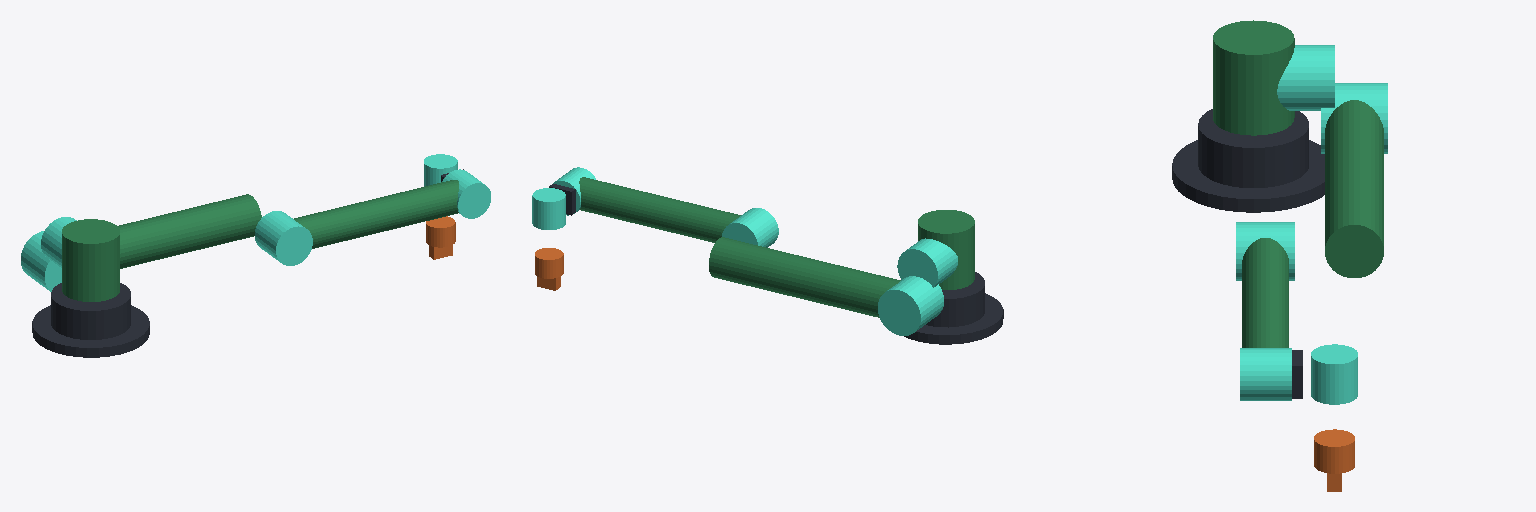
The robot description file, URDF, robot "ep_arm_6":
<?xml version="1.0"?>
<!-- EP-Arm-6: MIT teaching arm. DH lengths match src/lib/robot-arm-ik.ts (UR5-class). -->
<robot name="ep_arm_6">

  <material name="cast_iron">
    <color rgba="0.22 0.24 0.28 1"/>
  </material>
  <material name="accent">
    <color rgba="0.24 0.54 0.36 1"/>
  </material>
  <material name="joint_teal">
    <color rgba="0.37 0.92 0.83 1"/>
  </material>
  <material name="tool">
    <color rgba="0.85 0.47 0.23 1"/>
  </material>

  <link name="base_link">
    <visual>
      <origin xyz="0 0 0.04" rpy="0 0 0"/>
      <geometry><cylinder radius="0.075" length="0.08"/></geometry>
      <material name="cast_iron"/>
    </visual>
    <visual>
      <origin xyz="0 0 0.01" rpy="0 0 0"/>
      <geometry><cylinder radius="0.11" length="0.02"/></geometry>
      <material name="cast_iron"/>
    </visual>
  </link>

  <link name="shoulder_link">
    <visual>
      <origin xyz="0 0 0.06" rpy="0 0 0"/>
      <geometry><cylinder radius="0.055" length="0.12"/></geometry>
      <material name="accent"/>
    </visual>
    <visual>
      <origin xyz="0 0.07 0.06" rpy="1.5708 0 0"/>
      <geometry><cylinder radius="0.045" length="0.08"/></geometry>
      <material name="joint_teal"/>
    </visual>
  </link>

  <link name="upper_arm_link">
    <visual>
      <origin xyz="0 0 0.2125" rpy="0 0 0"/>
      <geometry><cylinder radius="0.04" length="0.425"/></geometry>
      <material name="accent"/>
    </visual>
    <visual>
      <origin xyz="0 0 0.0" rpy="1.5708 0 0"/>
      <geometry><cylinder radius="0.048" length="0.09"/></geometry>
      <material name="joint_teal"/>
    </visual>
  </link>

  <link name="forearm_link">
    <visual>
      <origin xyz="0 0 0.196125" rpy="0 0 0"/>
      <geometry><cylinder radius="0.032" length="0.39225"/></geometry>
      <material name="accent"/>
    </visual>
    <visual>
      <origin xyz="0 0 0.0" rpy="1.5708 0 0"/>
      <geometry><cylinder radius="0.04" length="0.08"/></geometry>
      <material name="joint_teal"/>
    </visual>
  </link>

  <link name="wrist_1_link">
    <visual>
      <origin xyz="0 0 0.0" rpy="1.5708 0 0"/>
      <geometry><cylinder radius="0.036" length="0.07"/></geometry>
      <material name="joint_teal"/>
    </visual>
    <visual>
      <origin xyz="0 0.02 0" rpy="0 0 0"/>
      <geometry><box size="0.05 0.06 0.05"/></geometry>
      <material name="cast_iron"/>
    </visual>
  </link>

  <link name="wrist_2_link">
    <visual>
      <origin xyz="0 0 0.0" rpy="0 0 0"/>
      <geometry><cylinder radius="0.032" length="0.06"/></geometry>
      <material name="joint_teal"/>
    </visual>
  </link>

  <link name="wrist_3_link">
    <visual>
      <origin xyz="0 0 0.02" rpy="0 0 0"/>
      <geometry><cylinder radius="0.028" length="0.04"/></geometry>
      <material name="tool"/>
    </visual>
    <visual>
      <origin xyz="0 0 0.055" rpy="0 0 0"/>
      <geometry><box size="0.04 0.02 0.03"/></geometry>
      <material name="tool"/>
    </visual>
  </link>

  <link name="tool0"/>

  <!-- Joints: origins match ARM_DH in robot-arm-ik.ts -->
  <joint name="shoulder_pan_joint" type="revolute">
    <parent link="base_link"/>
    <child link="shoulder_link"/>
    <origin xyz="0 0 0.089159" rpy="0 0 0"/>
    <axis xyz="0 0 1"/>
    <limit lower="-6.2832" upper="6.2832" effort="150" velocity="3.15"/>
  </joint>

  <joint name="shoulder_lift_joint" type="revolute">
    <parent link="shoulder_link"/>
    <child link="upper_arm_link"/>
    <origin xyz="0 0.13585 0" rpy="0 1.57079632679 0"/>
    <axis xyz="0 1 0"/>
    <limit lower="-6.2832" upper="6.2832" effort="150" velocity="3.15"/>
  </joint>

  <joint name="elbow_joint" type="revolute">
    <parent link="upper_arm_link"/>
    <child link="forearm_link"/>
    <origin xyz="0 -0.1197 0.425" rpy="0 0 0"/>
    <axis xyz="0 1 0"/>
    <limit lower="-3.1416" upper="3.1416" effort="150" velocity="3.15"/>
  </joint>

  <joint name="wrist_1_joint" type="revolute">
    <parent link="forearm_link"/>
    <child link="wrist_1_link"/>
    <origin xyz="0 0 0.39225" rpy="0 1.57079632679 0"/>
    <axis xyz="0 1 0"/>
    <limit lower="-6.2832" upper="6.2832" effort="28" velocity="3.2"/>
  </joint>

  <joint name="wrist_2_joint" type="revolute">
    <parent link="wrist_1_link"/>
    <child link="wrist_2_link"/>
    <origin xyz="0 0.093 0" rpy="0 0 0"/>
    <axis xyz="0 0 1"/>
    <limit lower="-6.2832" upper="6.2832" effort="28" velocity="3.2"/>
  </joint>

  <joint name="wrist_3_joint" type="revolute">
    <parent link="wrist_2_link"/>
    <child link="wrist_3_link"/>
    <origin xyz="0 0 0.09465" rpy="0 0 0"/>
    <axis xyz="0 1 0"/>
    <limit lower="-6.2832" upper="6.2832" effort="28" velocity="3.2"/>
  </joint>

  <joint name="ee_fixed_joint" type="fixed">
    <parent link="wrist_3_link"/>
    <child link="tool0"/>
    <origin xyz="0 0.0823 0" rpy="0 0 1.57079632679"/>
  </joint>

</robot>

--- Render facts (derived) ---
The picture shows the robot from 3 angles, left to right: view 1: azimuth 30°, elevation 25°; view 2: azimuth 150°, elevation 25°; view 3: azimuth 270°, elevation 25°; orthographic projection.
Model ep_arm_6 with 8 links and 7 joints (6 revolute, 1 fixed), rooted at base_link, posed every joint at zero.
Links seen in each view (by area): view 1: forearm_link, upper_arm_link, base_link, shoulder_link, wrist_1_link, wrist_3_link, wrist_2_link; view 2: upper_arm_link, forearm_link, shoulder_link, base_link, wrist_2_link, wrist_3_link, wrist_1_link; view 3: upper_arm_link, shoulder_link, base_link, forearm_link, wrist_1_link, wrist_2_link, wrist_3_link.
Link boxes in pixels (<box>): forearm_link: <box>255,180,458,265</box>; upper_arm_link: <box>21,194,261,291</box>; base_link: <box>32,283,149,357</box>; shoulder_link: <box>41,217,119,301</box>; wrist_1_link: <box>441,169,490,218</box>; wrist_3_link: <box>426,216,455,259</box>; wrist_2_link: <box>424,154,457,186</box>; upper_arm_link: <box>709,237,943,335</box>; forearm_link: <box>579,177,778,247</box>; shoulder_link: <box>897,210,974,289</box>; base_link: <box>904,272,1003,344</box>; wrist_2_link: <box>532,188,565,229</box>; wrist_3_link: <box>535,248,563,290</box>; wrist_1_link: <box>549,167,595,215</box>; upper_arm_link: <box>1321,83,1387,277</box>; shoulder_link: <box>1213,20,1334,135</box>; base_link: <box>1172,109,1324,212</box>; forearm_link: <box>1236,222,1294,347</box>; wrist_1_link: <box>1240,348,1302,400</box>; wrist_2_link: <box>1311,344,1357,404</box>; wrist_3_link: <box>1314,429,1354,491</box>.
Size in the robot's own frame: 0.9633 by 0.2909 by 0.2846 metres.
Geometry: primitives only (box / cylinder / sphere), no mesh files.
